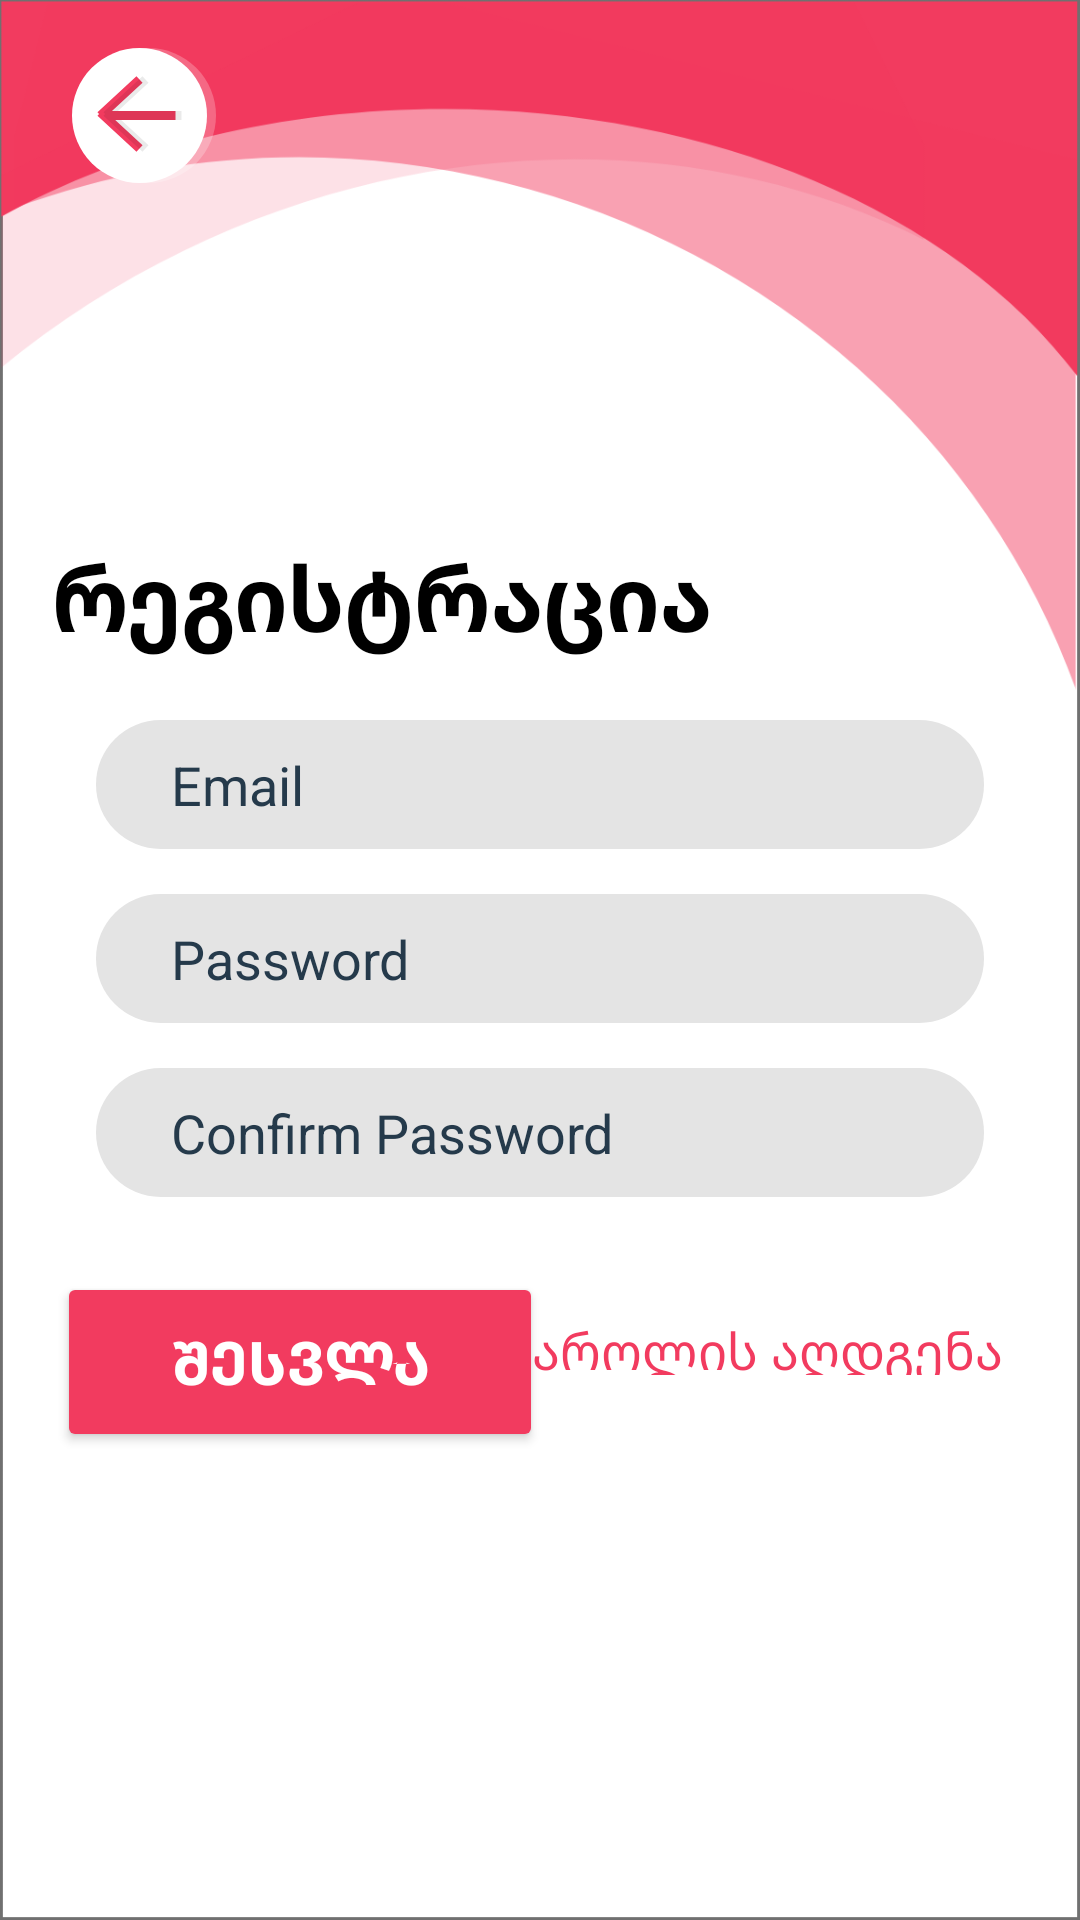

Icons on this 1080x1920 Android screen, each with the point to tap as (x,y):
gotobackbutton: (144,115)
